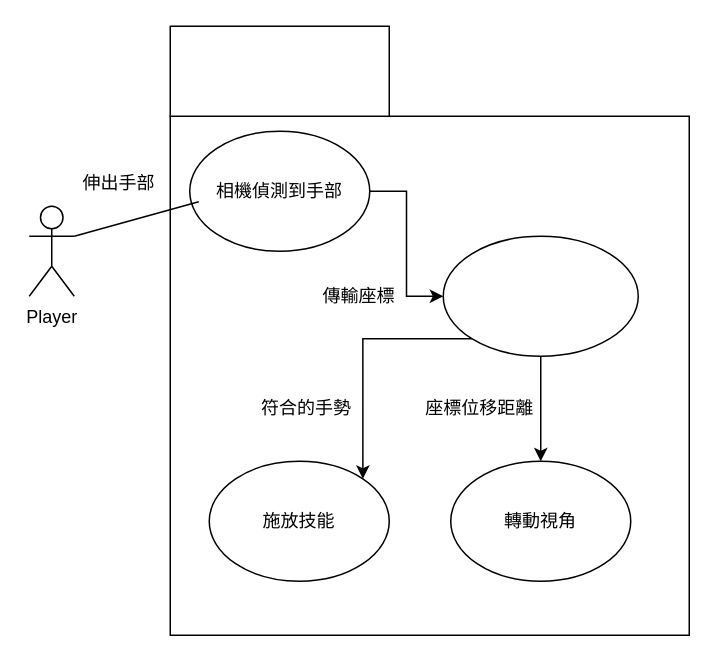
Image size: 716x662. Some labels were removed from this diagram. The shapes that lost their labels are listed below. From the top down, each one's centre as x and y in pixels, then its label:
At [279,70]: "MRFPS".
At [540,295]: "分析是否有符合的手勢".
